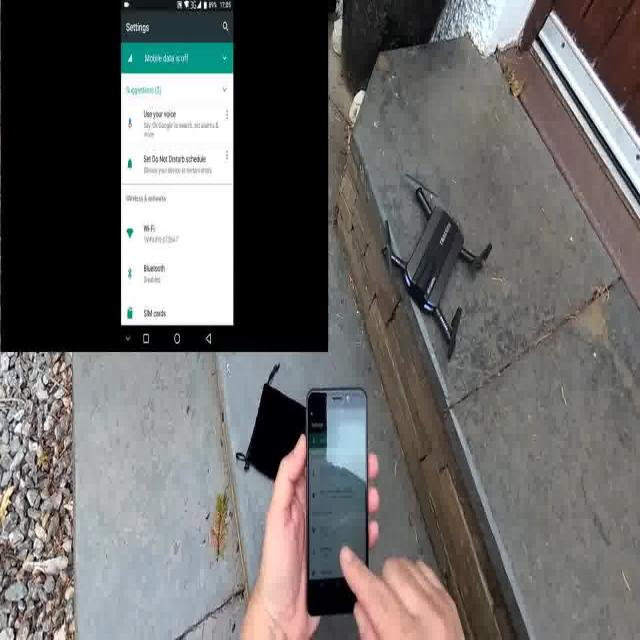drones: (371, 160, 506, 374)
